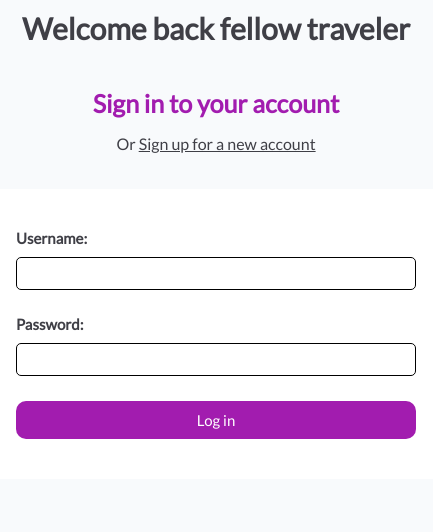
Scenario: Log in form Page › performs client side validation
Click the button "Log in": (216,420) [16,401,416,439]
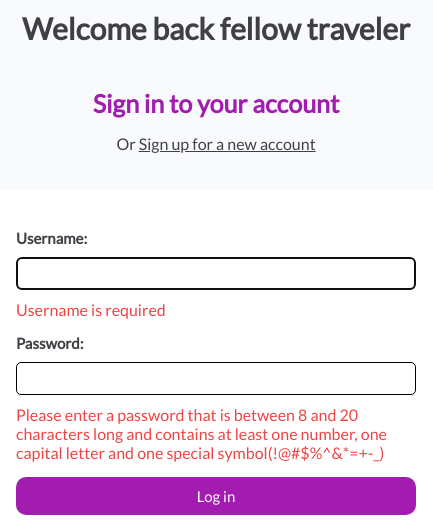
Check: the text "Username is required" is shown, box [16,300,166,319]
Check: the text "Please enter a password that is between 8 and 20 characters long and contains at least one number, one capital letter an" is shown, box [16,405,387,462]
